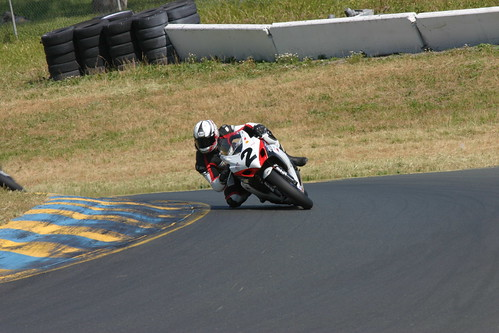helmet: (186, 111, 222, 156)
